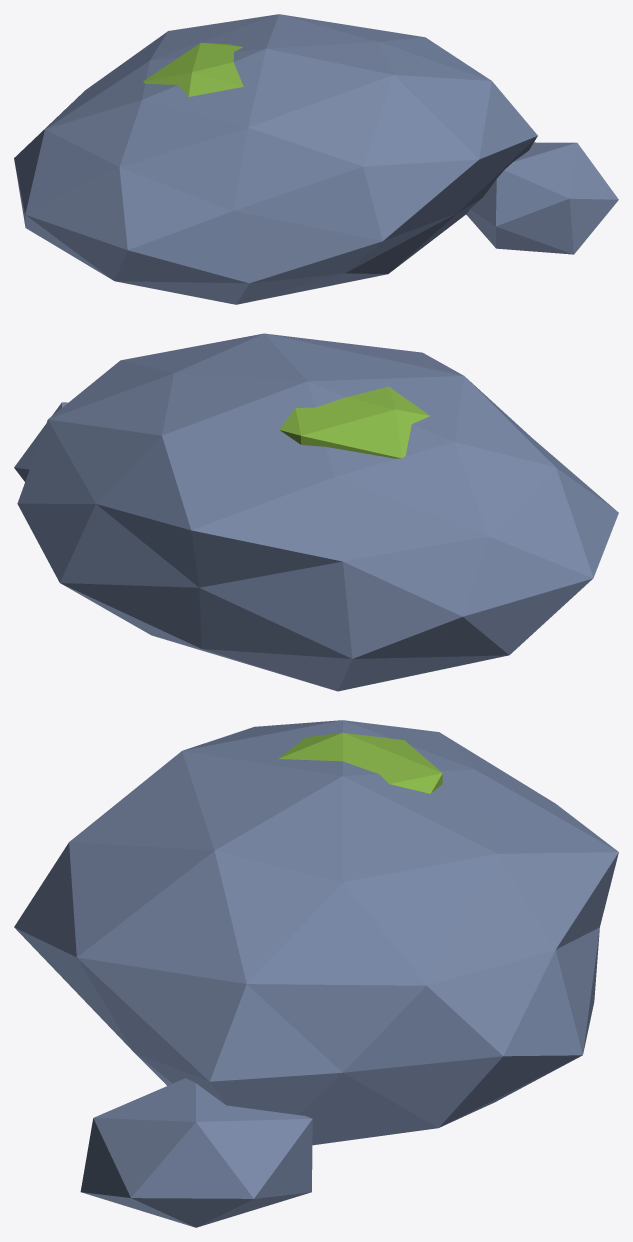
File: rock_3.glb
3 renders of one model, top to bottom at view 1: azimuth 30°, elevation 25°; view 2: azimuth 150°, elevation 25°; view 3: azimuth 270°, elevation 25°, orthographic. The views are drawn at different scales.
Parts seen in each view (by area): view 1: rock_2_mesh; view 2: rock_2_mesh; view 3: rock_2_mesh.
Boxes of the visible parts, x1,y1,x2,y2 form: rock_2_mesh: (14,14,618,304); rock_2_mesh: (14,333,618,691); rock_2_mesh: (14,720,618,1227).
Size of the model in its own units: 1.73 by 0.6957 by 1.24.
